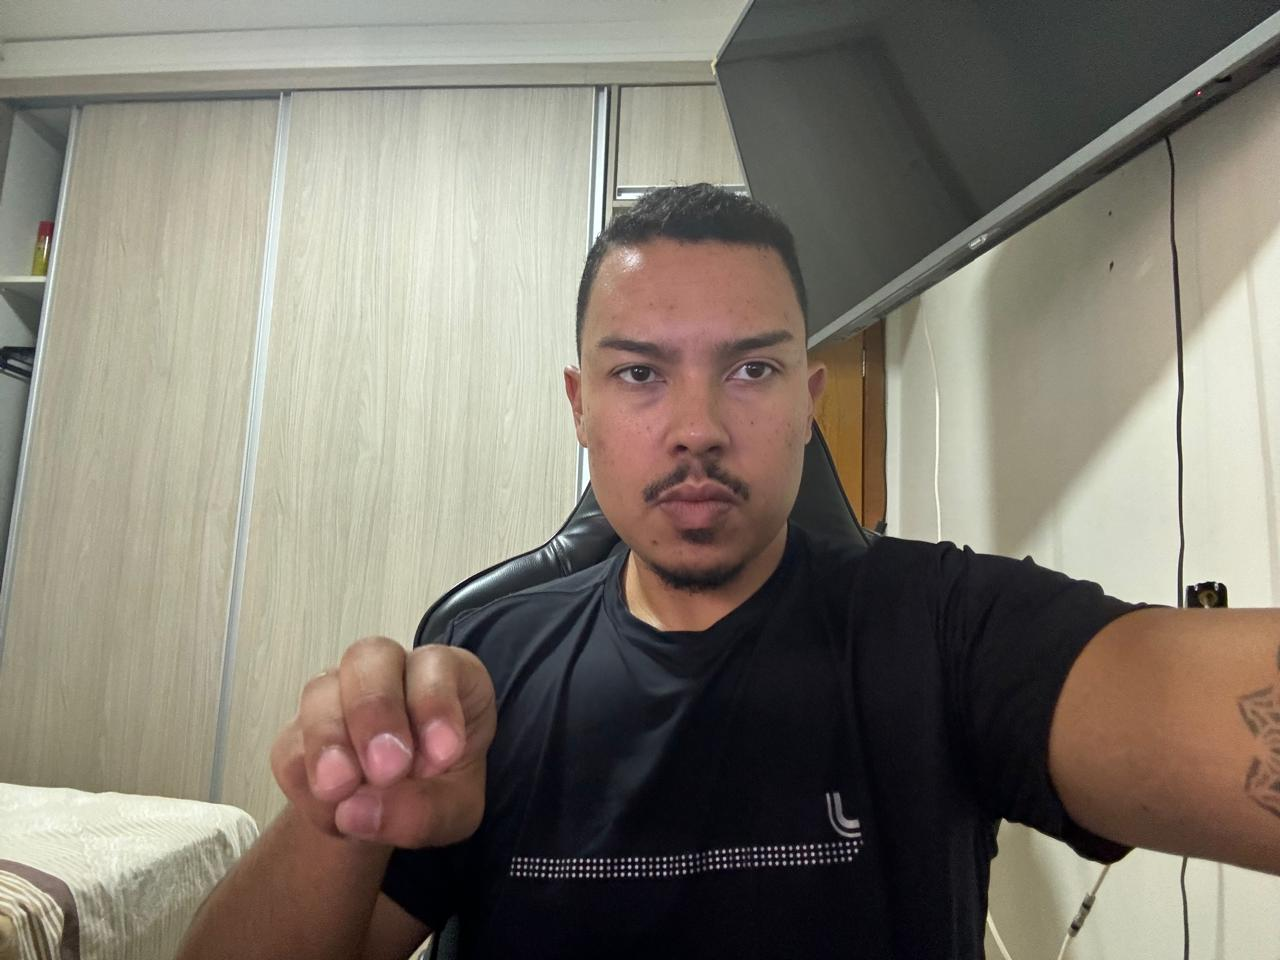m: (263, 626, 508, 857)
